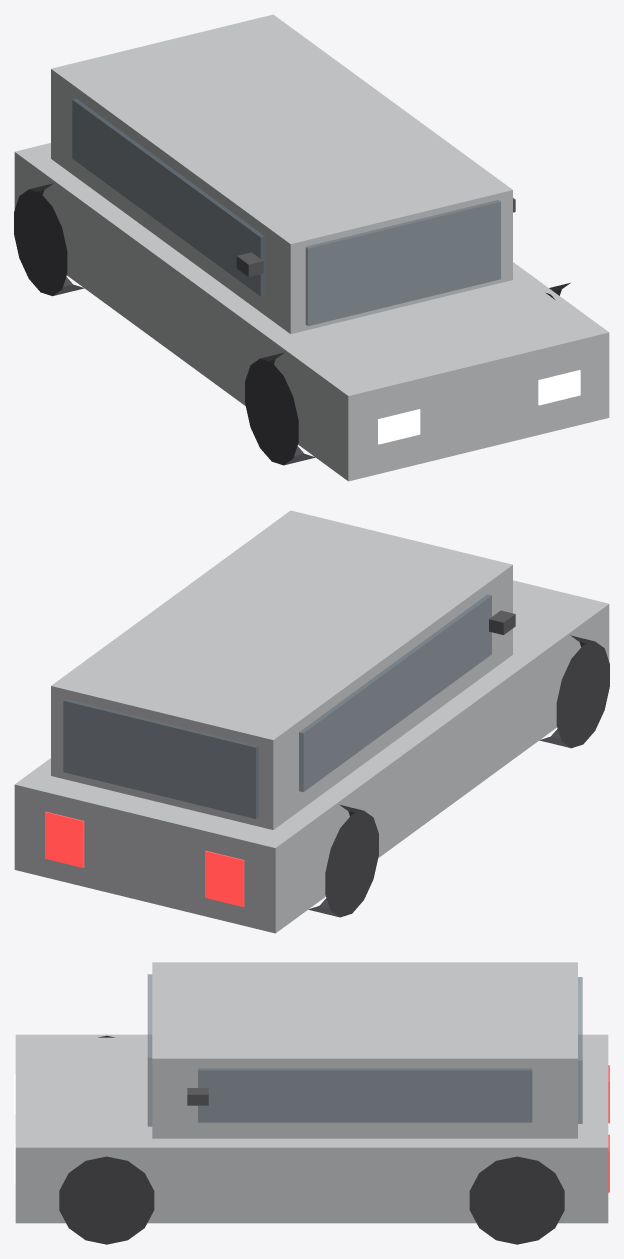
The model's file is hatchback.glb.
The picture shows the model from 3 angles, top to bottom: view 1: azimuth 30°, elevation 25°; view 2: azimuth 150°, elevation 25°; view 3: azimuth 270°, elevation 25°; orthographic projection. The views are drawn at different scales.
Visible parts, largest first — view 1: hatchback; view 2: hatchback; view 3: hatchback.
Part boxes in pixels (x1,y1,x2,y2): hatchback: (14,14,609,481); hatchback: (14,510,609,933); hatchback: (14,962,609,1244).
Bounding box in the file's own units: 2.1 × 1.21 × 3.92.
